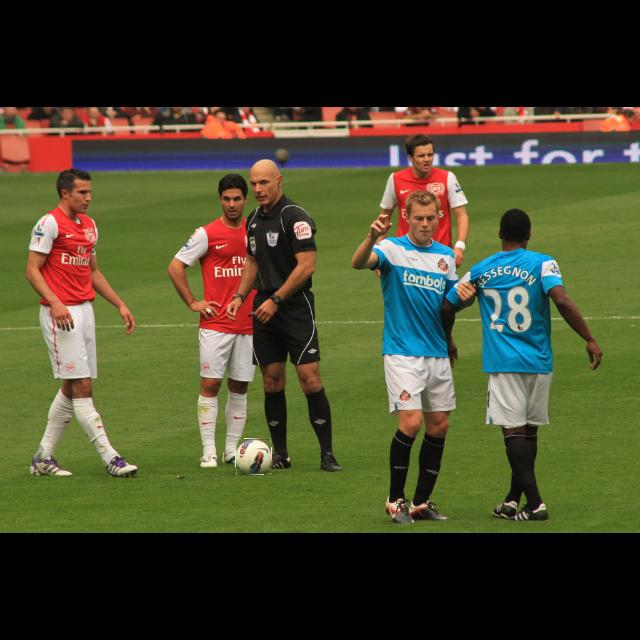Football: (236, 439, 272, 475)
